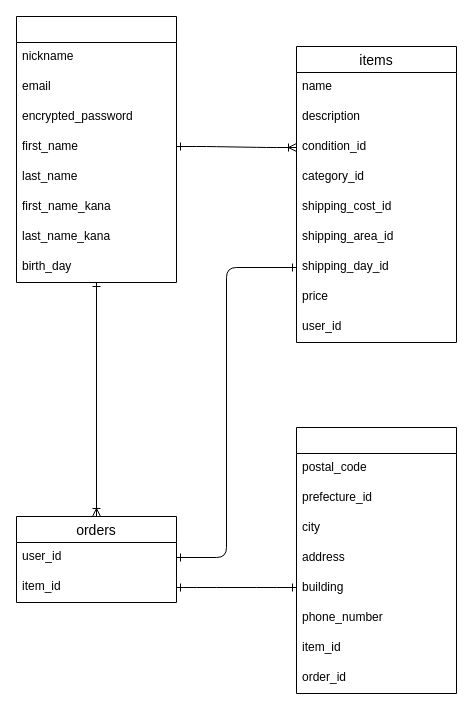
The diagram is 473 pixels wide and 710 high, and some of its shapes have lost their labels. Here are the shapes that lost their labels. From the top down, the box of each, then its label:
(16, 16, 176, 282): users
(296, 426, 456, 694): shipping_addresses
